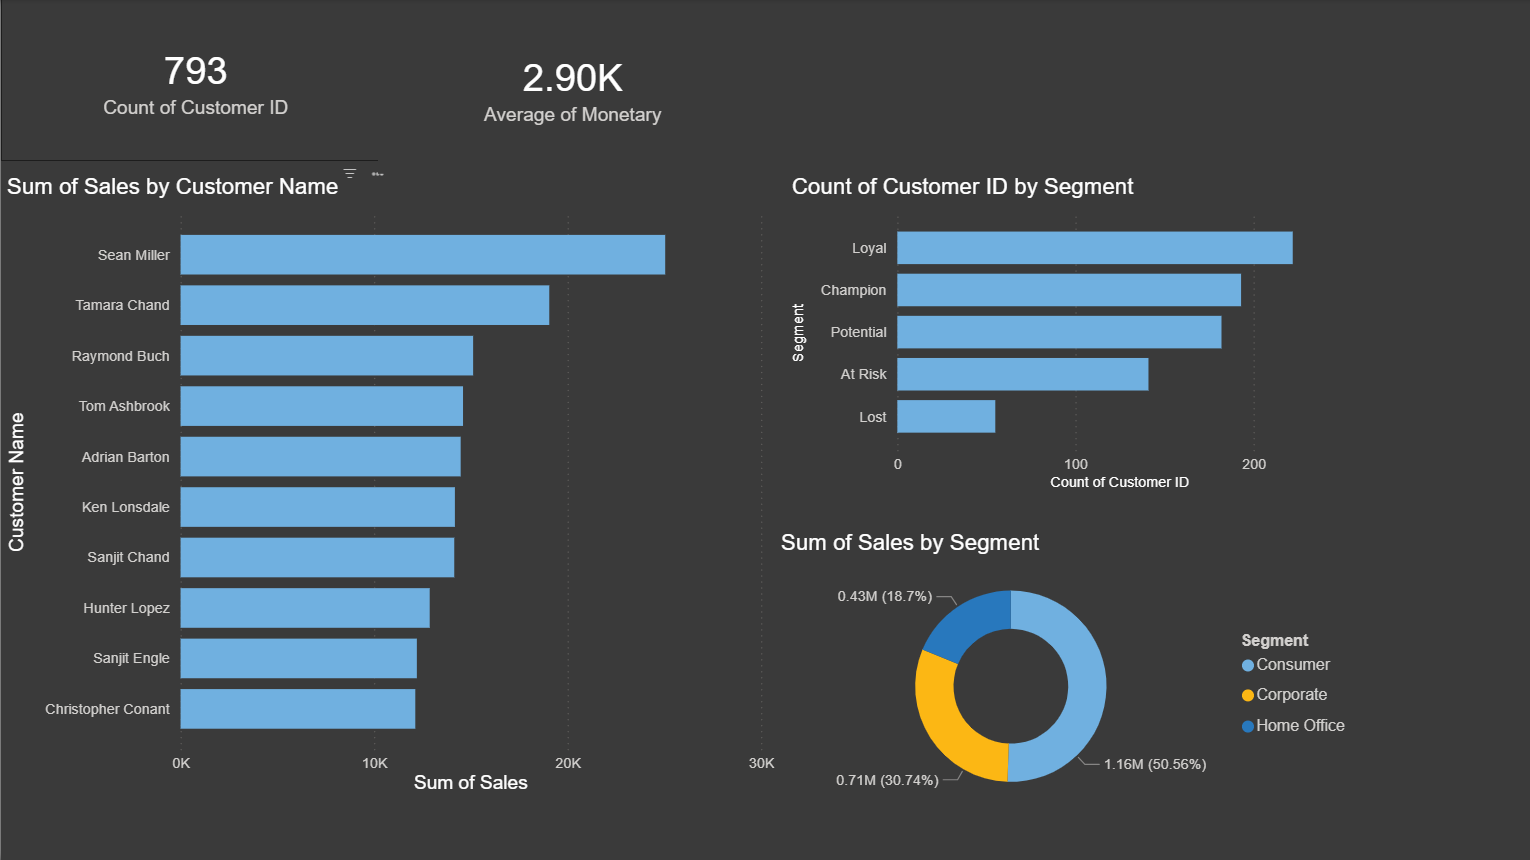

Layout of this report page (visuals, bound fields, positions):
{"tool":"powerbi","page":{"name":"Customer Analysis","canvas":[1280,720],"ordinal":2},"visuals":[{"type":"clusteredBarChart","fields":{"Category":["rfm_segments.Segment"],"Y":["Count(superstore_clean.Customer ID)"]},"box":[655.5,146.4,480.9,269.1],"z":0},{"type":"donutChart","fields":{"Category":["superstore_clean.Segment"],"Y":["Sum(superstore_clean.Sales)"]},"box":[646.4,443.6,490,240],"z":1000},{"type":"barChart","fields":{"Category":["superstore_clean.Customer Name"],"Y":["Sum(superstore_clean.Sales)"]},"box":[0,146.4,650.9,521.8],"z":2000},{"type":"card","fields":{"Values":["Count(superstore_clean.Customer ID)"]},"box":[0,23.3,325.8,98.2],"z":3000},{"type":"card","fields":{"Values":["Avg(rfm_segments.Monetary)"]},"box":[314.2,0,325.8,145.9],"z":4000}]}

Visuals, with their boxes in screenshot pixels (x1, y1, x2, y2), scaled from the page's 1280x720 canvas onto the 1530x860 screenshot:
clusteredBarChart - rfm_segments.Segment x Count(superstore_clean.Customer ID): <region>784, 175, 1358, 496</region>
donutChart - superstore_clean.Segment x Sum(superstore_clean.Sales): <region>773, 530, 1358, 817</region>
barChart - superstore_clean.Customer Name x Sum(superstore_clean.Sales): <region>0, 175, 778, 798</region>
card - Count(superstore_clean.Customer ID): <region>0, 28, 389, 145</region>
card - Avg(rfm_segments.Monetary): <region>376, 0, 765, 174</region>
